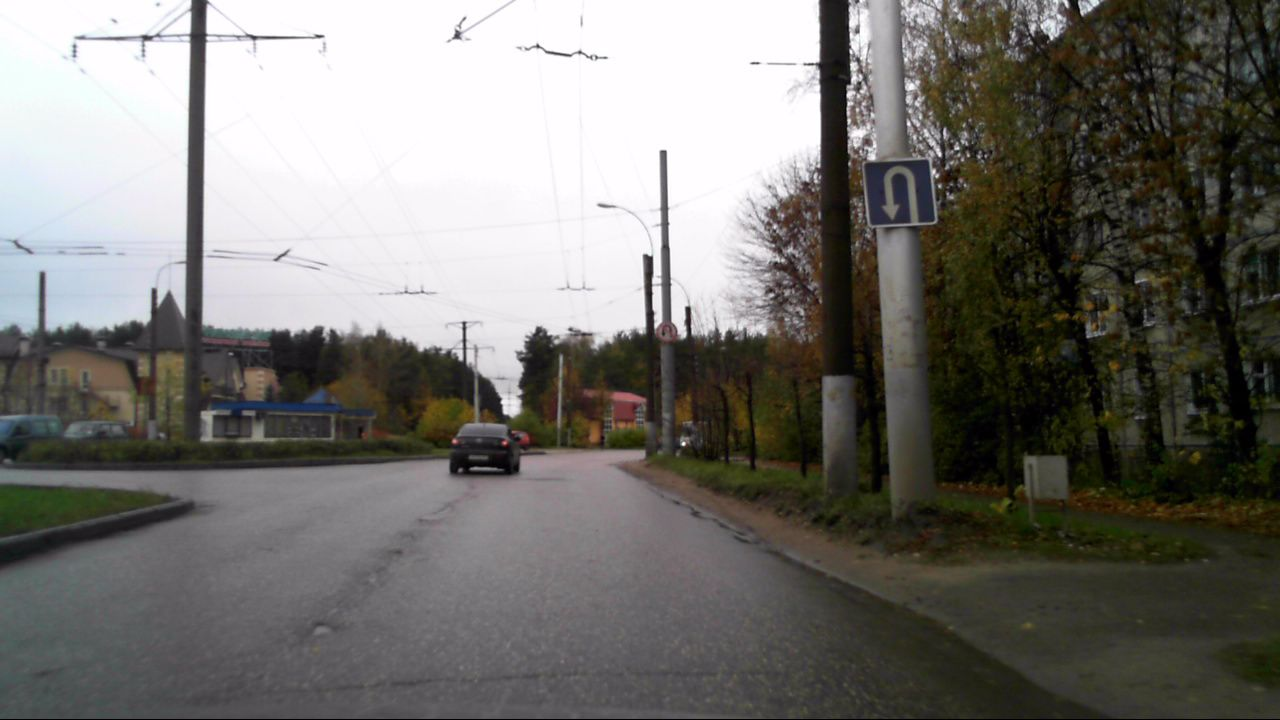U-turn: (864, 161, 935, 224)
